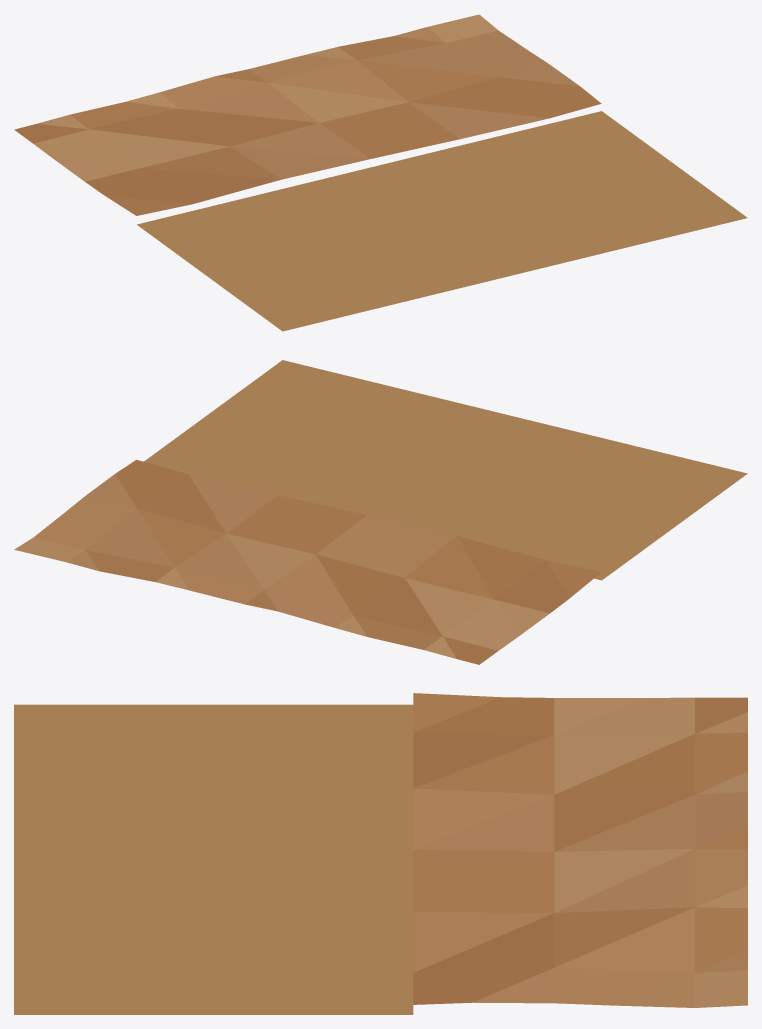
3 renders of one model, top to bottom at view 1: azimuth 30°, elevation 25°; view 2: azimuth 150°, elevation 25°; view 3: azimuth 270°, elevation 25°, orthographic. The views are drawn at different scales.
Visible parts, largest first — view 1: baked; view 2: baked; view 3: baked.
Part boxes in pixels (<box>): baked: <box>14,14,747,331</box>; baked: <box>14,360,747,664</box>; baked: <box>14,693,747,1014</box>.
Bounding box in the file's own units: 62.5 × 1.25 × 62.5.
